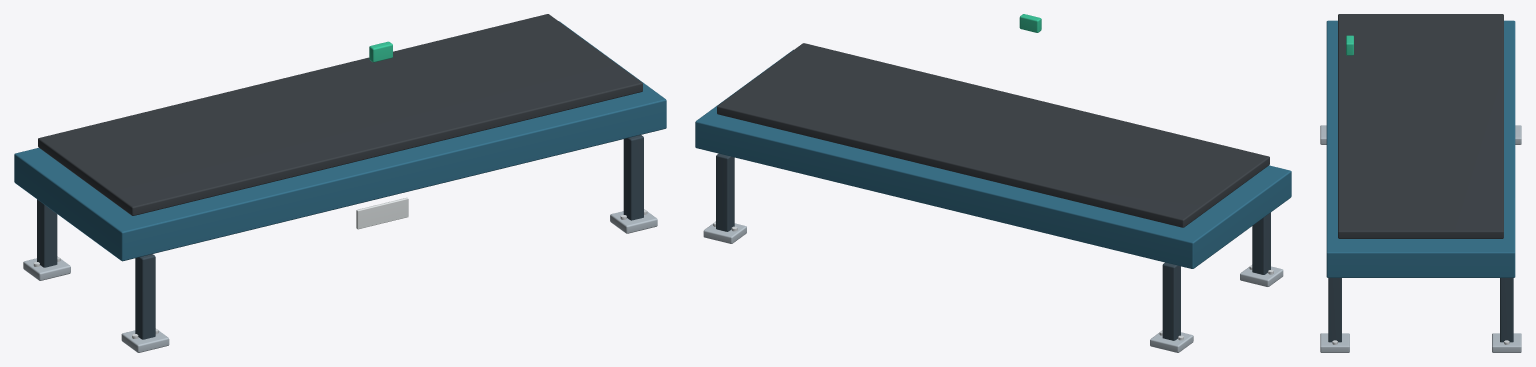
The model's file is Equipment_CV.fbx.
3 renders of one model, left to right at view 1: azimuth 30°, elevation 25°; view 2: azimuth 150°, elevation 25°; view 3: azimuth 270°, elevation 25°, orthographic. The views are drawn at different scales.
Parts seen in each view (by area): view 1: Belt, Frame.001, Leg.004, Leg.006, Leg.005, BlankNameplate_CV, FootPlate.004, FootPlate.005, FootPlate.006; view 2: Belt, Frame.001, Leg.007, Leg.005, Leg.004, FootPlate.005, FootPlate.007, FootPlate.004; view 3: Belt, Frame.001, Leg.006, Leg.007, FootPlate.006, FootPlate.007.
Part boxes in pixels (left/top/right/bottom): Belt: left=38, top=14, right=642, bottom=215; Frame.001: left=14, top=21, right=666, bottom=261; Leg.004: left=135, top=254, right=155, bottom=339; Leg.006: left=623, top=135, right=643, bottom=220; Leg.005: left=37, top=199, right=57, bottom=267; BlankNameplate_CV: left=356, top=197, right=408, bottom=229; FootPlate.004: left=121, top=328, right=169, bottom=352; FootPlate.005: left=23, top=256, right=70, bottom=280; FootPlate.006: left=610, top=209, right=657, bottom=233; Belt: left=717, top=43, right=1269, bottom=227; Frame.001: left=695, top=49, right=1291, bottom=268; Leg.007: left=716, top=153, right=734, bottom=231; Leg.005: left=1162, top=262, right=1180, bottom=340; Leg.004: left=1252, top=212, right=1270, bottom=274; FootPlate.005: left=1150, top=330, right=1193, bottom=352; FootPlate.007: left=703, top=221, right=746, bottom=243; FootPlate.004: left=1240, top=266, right=1283, bottom=286; Belt: left=1338, top=14, right=1503, bottom=238; Frame.001: left=1326, top=20, right=1515, bottom=277; Leg.006: left=1328, top=278, right=1341, bottom=342; Leg.007: left=1500, top=278, right=1513, bottom=342; FootPlate.006: left=1320, top=333, right=1349, bottom=352; FootPlate.007: left=1492, top=333, right=1521, bottom=352.
Size of the model in its own units: 4.8 by 1.96 by 1.76.
